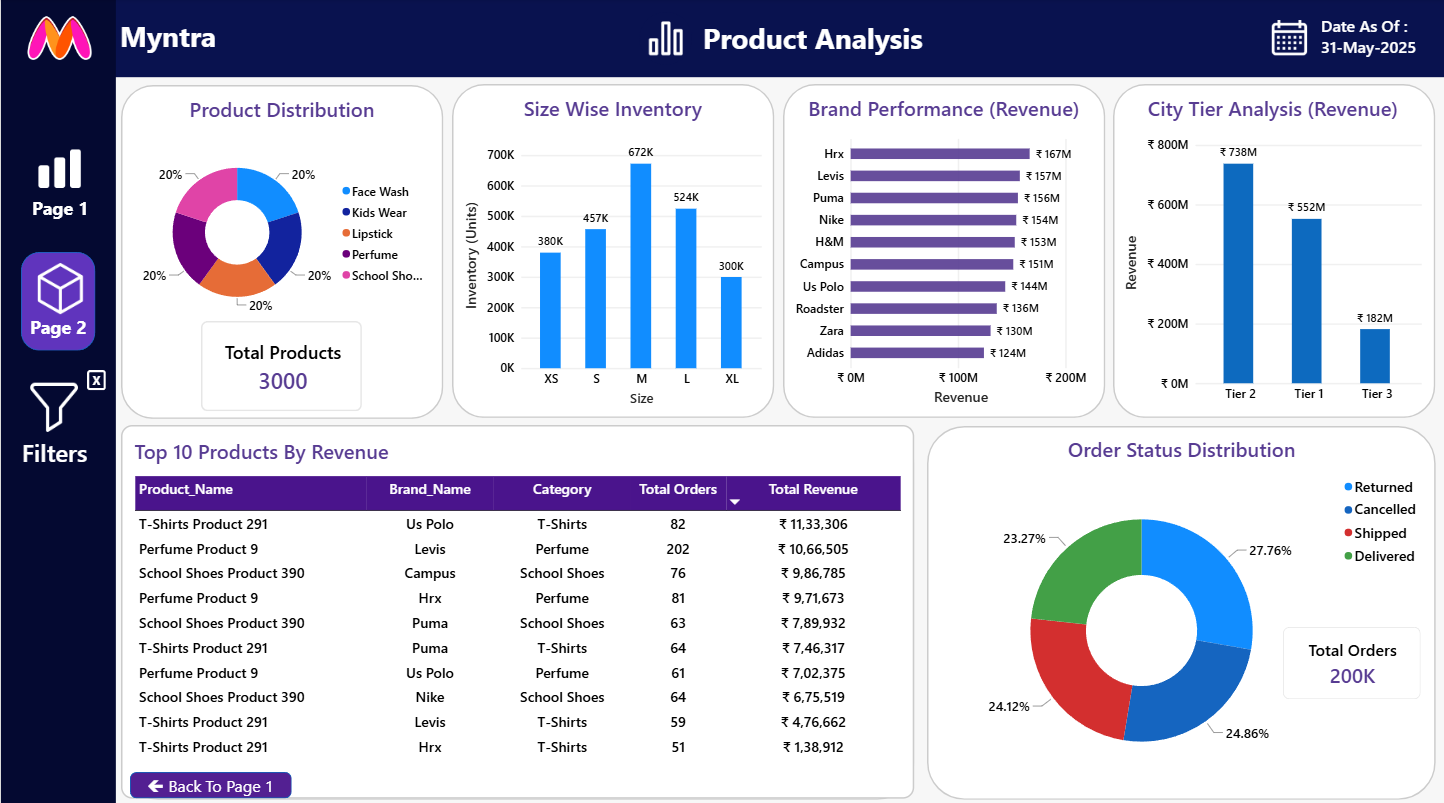

Layout of this report page (visuals, bound fields, positions):
{"tool":"powerbi","page":{"name":"Product Analysis","canvas":[1920,1080],"ordinal":1},"visuals":[{"type":"shape","box":[0,0,152.8,1080.3],"z":0,"group":"g12"},{"type":"shape","box":[0,0,1920,104],"z":0,"group":"g11"},{"type":"shape","box":[160.6,113.8,428.7,444.3],"z":0,"group":"g10"},{"type":"shape","box":[600.2,113.8,428.7,444.3],"z":0,"group":"g9"},{"type":"shape","box":[1039.8,113.8,428.7,444.3],"z":0,"group":"g6"},{"type":"shape","box":[1479.4,113.8,428.7,444.3],"z":0,"group":"g4"},{"type":"image","box":[46.7,190.6,62.9,70.1],"z":0,"group":"g8"},{"type":"shape","box":[27.3,336.2,98.9,131.2],"z":0,"group":"g7"},{"type":"group","id":"g1","title":"Donut Chart 2nd","box":[1231.5,566.7,676.8,498.1],"z":0},{"type":"shape","box":[160.6,567.5,1055.4,497.3],"z":0,"group":"g2"},{"type":"shape","box":[1231.5,567.5,676.6,497.3],"z":0,"group":"g1"},{"type":"textbox","box":[28.8,581.5,97.1,53.1],"z":0,"group":"g3"},{"type":"shape","box":[171.7,1028.4,215,35],"z":0,"group":"g5"},{"type":"image","title":"Myntra Logo","box":[23.4,16.2,107.9,71.9],"z":1000,"group":"g12"},{"type":"textbox","title":"Heading","box":[934.3,26.6,297.7,57.7],"z":1000,"group":"g11"},{"type":"columnChart","title":"Size Wise Inventory","fields":{"Category":["Size Table.Size"],"Y":["Size Table.Inventory Units"]},"box":[600.5,113.3,427.9,444],"z":1000,"group":"g9"},{"type":"barChart","title":"Brand Performance (Revenue)","fields":{"Category":["myntra_db orders.Brand_Name"],"Y":["myntra_db orders.Total Revenue"]},"box":[1040,113.3,427.9,444],"z":1000,"group":"g6"},{"type":"columnChart","title":"City Tier Analysis (Revenue)","fields":{"Category":["myntra_db orders.City_Tier"],"Y":["myntra_db orders.Total Revenue"]},"box":[1478.3,113.3,427.9,444],"z":1000,"group":"g4"},{"type":"donutChart","title":"Product Distribution","fields":{"Category":["myntra_db orders.Category"],"Y":["myntra_db orders.Total Products"]},"box":[160,114,428,342],"z":1000,"group":"g10"},{"type":"textbox","box":[41.3,260.8,86.3,41.3],"z":1000,"group":"g8"},{"type":"image","box":[32.8,350.6,93.5,68.3],"z":1000,"group":"g7"},{"type":"image","box":[22.5,508.6,95.8,69.8],"z":1000,"group":"g3"},{"type":"group","id":"g2","title":"Top 10 Products","box":[160,566.7,1055.9,498.1],"z":1000},{"type":"tableEx","title":"Top 10 Products By Revenue","fields":{"Values":["myntra_db orders.Product_Name","myntra_db orders.Brand_Name","myntra_web_catalog.Category","myntra_db orders.Total Orders","myntra_db orders.Total Revenue"]},"box":[160,566.7,1055,496.7],"z":1000,"group":"g2"},{"type":"donutChart","title":"Order Status Distribution","fields":{"Category":["myntra_db orders.Order_Status"],"Y":["myntra_db orders.Total Orders"]},"box":[1233.3,566.7,675,496.7],"z":1000,"group":"g1"},{"type":"textbox","box":[171.7,1028.4,213.3,35],"z":1000,"group":"g5"},{"type":"group","id":"g3","title":"Filter","box":[21.6,487.2,117.6,147.4],"z":1500,"group":"g12"},{"type":"actionButton","title":"Hide","box":[21.6,487.2,109.7,136.6],"z":1500,"group":"g3"},{"type":"textbox","title":"Date","box":[1755,21.7,133.3,61.7],"z":2000,"group":"g11"},{"type":"group","id":"g4","title":"Column Chart 2nd","box":[1478.3,113.3,429.8,444.8],"z":2000},{"type":"actionButton","box":[28.8,190.7,88.1,115.1],"z":2000,"group":"g8"},{"type":"textbox","box":[39,418.9,90,38.3],"z":2000,"group":"g7"},{"type":"cardVisual","fields":{"Data":["myntra_db orders.Total Products"]},"box":[266,428,214,120],"z":2000,"group":"g10"},{"type":"cardVisual","fields":{"Data":["myntra_db orders.Total Orders"]},"box":[1705,835,183.3,96.7],"z":2000,"group":"g1"},{"type":"group","id":"g5","title":"Back Button","box":[171.7,1028.4,215,35],"z":2000,"group":"g2"},{"type":"actionButton","box":[171.7,1028.4,215,35],"z":2000,"group":"g5"},{"type":"image","title":"Calendar","box":[1681.7,28.3,65,46.7],"z":3000,"group":"g11"},{"type":"group","id":"g6","title":"Bar Chart","box":[1039.8,113.3,428.7,444.8],"z":3000},{"type":"actionButton","box":[27,336.2,98.9,131.2],"z":3000,"group":"g7"},{"type":"group","id":"g7","title":"Page 2","box":[27,336.2,100.7,131.2],"z":3000,"group":"g12"},{"type":"group","id":"g8","title":"Page 1","box":[28.8,190.6,98.9,115.1],"z":3500,"group":"g12"},{"type":"image","title":"Bar Icon","box":[838.7,17.1,90.4,70.2],"z":4000,"group":"g11"},{"type":"group","id":"g9","title":"Column Chart 1st","box":[600.2,113.3,428.7,444.8],"z":4000},{"type":"textbox","title":"Myntra","box":[152.8,23.4,138.7,57.7],"z":5000,"group":"g11"},{"type":"group","id":"g10","title":"Donut 1st","box":[160,113.8,429.3,444.3],"z":5000},{"type":"group","id":"g11","title":"Header","box":[0,0,1920,104],"z":6000},{"type":"group","id":"g12","title":"Sidebar","box":[0,0,152.8,1080.3],"z":7000},{"type":"actionButton","title":"Show","box":[114.1,494,25.2,27],"z":7001,"group":"g3"}]}

Visuals, with their boxes on the page's 1920x1080 design canvas (x1, y1, x2, y2). These are canvas units, not pixel positions in the 1444x803 screenshot, which may show the page scaled, cropped or inside an application window:
shape: bbox=(0, 0, 153, 1080)
shape: bbox=(0, 0, 1920, 104)
shape: bbox=(161, 114, 589, 558)
shape: bbox=(600, 114, 1029, 558)
shape: bbox=(1040, 114, 1468, 558)
shape: bbox=(1479, 114, 1908, 558)
image: bbox=(47, 191, 110, 261)
shape: bbox=(27, 336, 126, 467)
"Donut Chart 2nd" group: bbox=(1232, 567, 1908, 1065)
shape: bbox=(161, 568, 1216, 1065)
shape: bbox=(1232, 568, 1908, 1065)
textbox: bbox=(29, 582, 126, 635)
shape: bbox=(172, 1028, 387, 1063)
"Myntra Logo" image: bbox=(23, 16, 131, 88)
"Heading" textbox: bbox=(934, 27, 1232, 84)
"Size Wise Inventory" columnChart: bbox=(600, 113, 1028, 557)
"Brand Performance (Revenue)" barChart: bbox=(1040, 113, 1468, 557)
"City Tier Analysis (Revenue)" columnChart: bbox=(1478, 113, 1906, 557)
"Product Distribution" donutChart: bbox=(160, 114, 588, 456)
textbox: bbox=(41, 261, 128, 302)
image: bbox=(33, 351, 126, 419)
image: bbox=(22, 509, 118, 578)
"Top 10 Products" group: bbox=(160, 567, 1216, 1065)
"Top 10 Products By Revenue" tableEx: bbox=(160, 567, 1215, 1063)
"Order Status Distribution" donutChart: bbox=(1233, 567, 1908, 1063)
textbox: bbox=(172, 1028, 385, 1063)
"Filter" group: bbox=(22, 487, 139, 635)
"Hide" actionButton: bbox=(22, 487, 131, 624)
"Date" textbox: bbox=(1755, 22, 1888, 83)
"Column Chart 2nd" group: bbox=(1478, 113, 1908, 558)
actionButton: bbox=(29, 191, 117, 306)
textbox: bbox=(39, 419, 129, 457)
cardVisual - myntra_db orders.Total Products: bbox=(266, 428, 480, 548)
cardVisual - myntra_db orders.Total Orders: bbox=(1705, 835, 1888, 932)
"Back Button" group: bbox=(172, 1028, 387, 1063)
actionButton: bbox=(172, 1028, 387, 1063)
"Calendar" image: bbox=(1682, 28, 1747, 75)
"Bar Chart" group: bbox=(1040, 113, 1468, 558)
actionButton: bbox=(27, 336, 126, 467)
"Page 2" group: bbox=(27, 336, 128, 467)
"Page 1" group: bbox=(29, 191, 128, 306)
"Bar Icon" image: bbox=(839, 17, 929, 87)
"Column Chart 1st" group: bbox=(600, 113, 1029, 558)
"Myntra" textbox: bbox=(153, 23, 292, 81)
"Donut 1st" group: bbox=(160, 114, 589, 558)
"Header" group: bbox=(0, 0, 1920, 104)
"Sidebar" group: bbox=(0, 0, 153, 1080)
"Show" actionButton: bbox=(114, 494, 139, 521)
